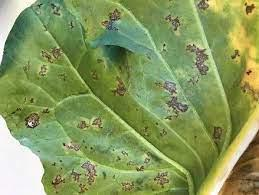Bok-Choy-Diseased: (20, 7, 259, 195)
